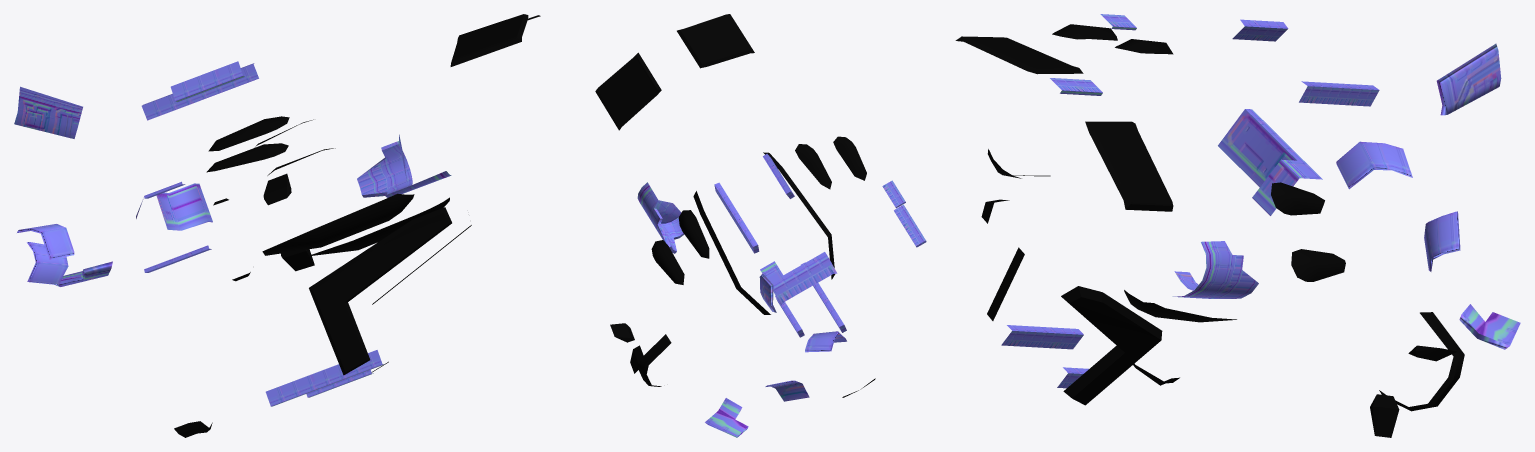
The model's file is ama_ship_wreck_01_06.glb.
3 views of the same model, side by side, from view 1: azimuth 30°, elevation 25°; view 2: azimuth 150°, elevation 25°; view 3: azimuth 270°, elevation 25° (orthographic). The views are drawn at different scales.
Parts seen in each view (by area): view 1: ama_ship_wreck_01_06_LOD0, ama_ship_wreck_details_01_06_LOD0; view 2: ama_ship_wreck_01_06_LOD0, ama_ship_wreck_details_01_06_LOD0; view 3: ama_ship_wreck_01_06_LOD0, ama_ship_wreck_details_01_06_LOD0.
Part boxes in pixels (box(x1,y1,x2,y2)): ama_ship_wreck_01_06_LOD0: box(174, 14, 540, 437); ama_ship_wreck_details_01_06_LOD0: box(14, 61, 451, 406); ama_ship_wreck_01_06_LOD0: box(595, 14, 875, 397); ama_ship_wreck_details_01_06_LOD0: box(637, 153, 926, 437); ama_ship_wreck_01_06_LOD0: box(955, 24, 1464, 437); ama_ship_wreck_details_01_06_LOD0: box(1001, 14, 1520, 388).
Size of what is drawn, in the model's own units: 5.55 by 4.88 by 5.09.
Materials: 2 (2 with a texture image).
